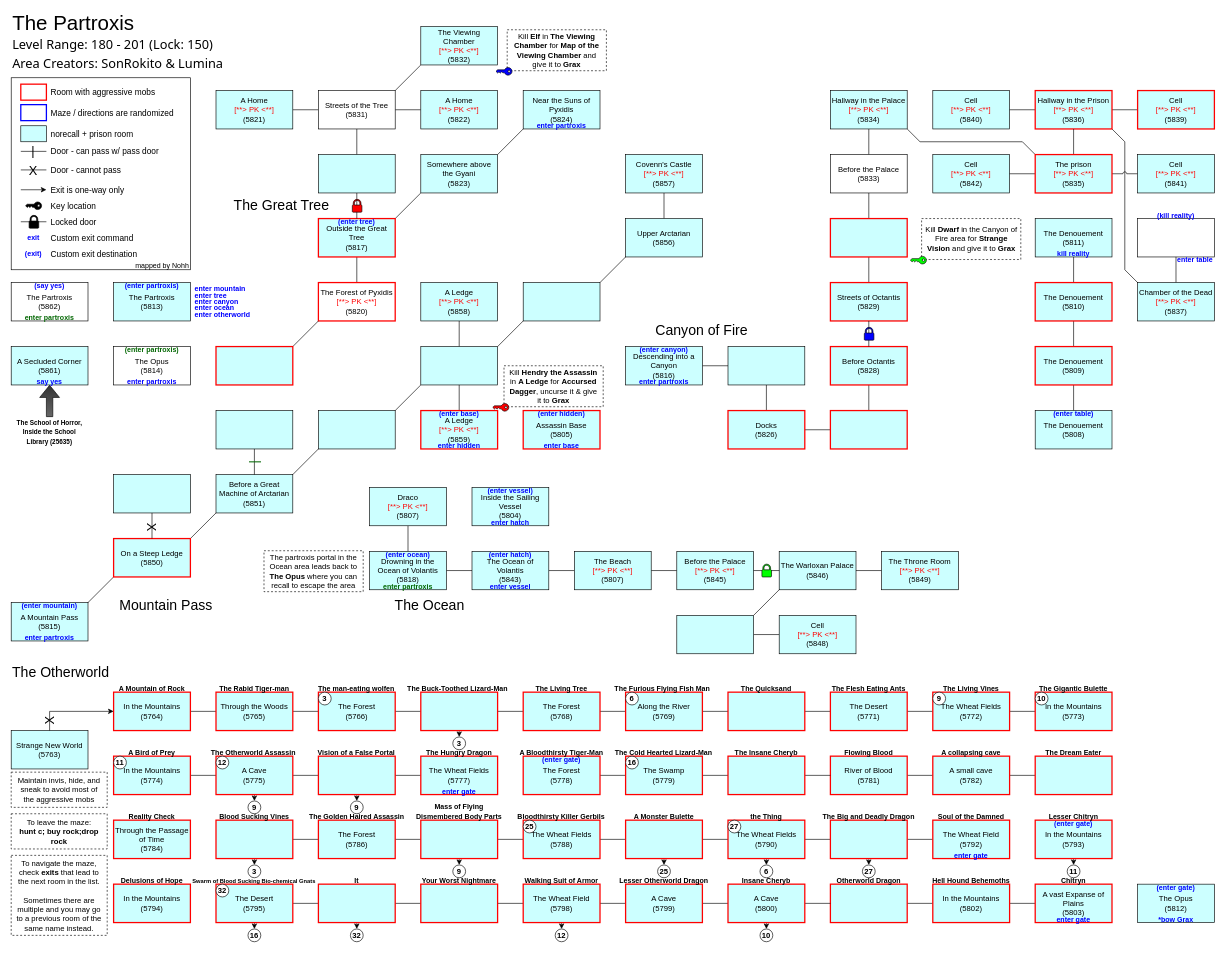
The diagram is 1231 pixels wide and 953 high, and some of its shapes have lost their labels. Here are the shapes that lost their labels. From the top down, the centre of each, then its label:
(x=356, y=173): Inside the Tree (5819)
(x=868, y=237): Streets of Octantis (5830)
(x=1175, y=237): Chamber of the Damned [**> PK <**] (5838)
(x=561, y=301): Above the Pass (5855)
(x=254, y=365): Underground Passage [**> PK <**] (5806)
(x=459, y=365): Middle Arctarian (5854)
(x=766, y=365): A Whirlpool of Lava [**> PK <**] (5825)
(x=254, y=429): Within the Cab [**> PK <**] (5852)
(x=356, y=429): Higher on the Mountain (5853)
(x=868, y=429): A Path from the Docks (5827)
(x=151, y=493): Warloxan Mining Shaft [**> PK <**] (5860)
(x=715, y=634): The prison [**> PK <**] (5847)
(x=459, y=711): Swampy Path (5767)
(x=766, y=711): The Desert (5770)
(x=356, y=775): The Wheat Fields (5776)
(x=766, y=775): The Swamp (5780)
(x=1073, y=775): A small cave (5783)
(x=254, y=839): The Swamp (5785)
(x=459, y=839): The Wheat Fields (5787)
(x=664, y=839): In the Mountains (5789)
(x=868, y=839): Along the River (5791)
(x=356, y=903): The Swamp (5796)
(x=459, y=903): The Desert (5797)
(x=868, y=903): In the Mountains (5801)
